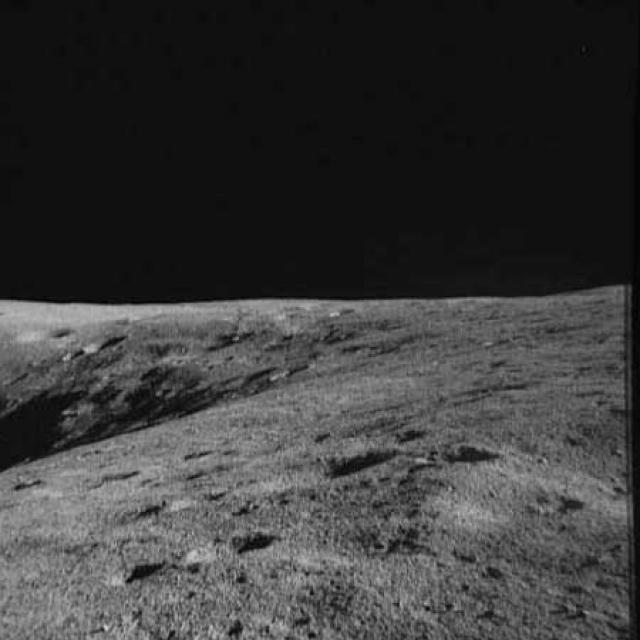crater: (234, 444, 396, 504), (181, 524, 280, 578), (36, 461, 143, 508), (101, 548, 177, 596), (415, 438, 504, 476), (113, 492, 185, 526), (260, 358, 328, 387), (10, 322, 80, 346), (79, 329, 140, 356), (164, 437, 222, 464), (386, 421, 437, 447), (537, 488, 580, 517), (7, 471, 53, 493), (468, 332, 513, 352), (265, 327, 303, 349), (275, 306, 313, 324), (58, 345, 86, 363), (328, 304, 355, 322), (201, 486, 225, 502)
